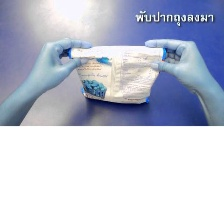snack: (62, 39, 170, 110)
